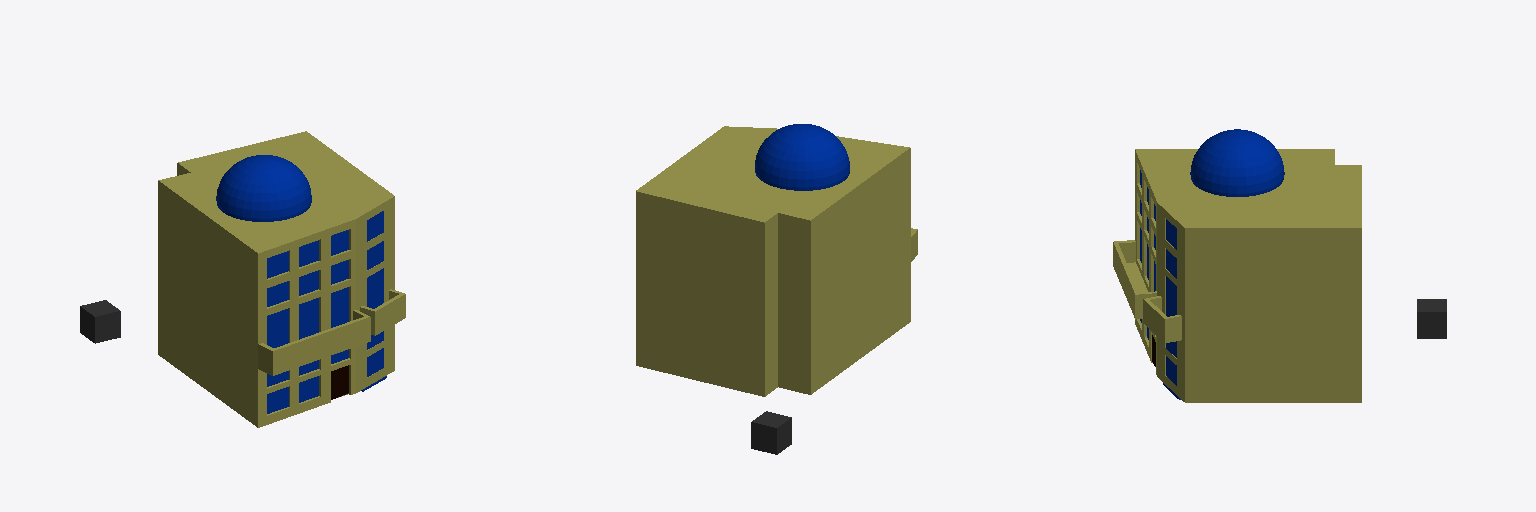
Rendered from maison_armateur.obj.
3 renders of one model, left to right at view 1: azimuth 30°, elevation 25°; view 2: azimuth 150°, elevation 25°; view 3: azimuth 270°, elevation 25°, orthographic.
Visible parts, largest first — view 1: maison_armateur, Cube.001, Sphere, Cube.003, Cube; view 2: maison_armateur, Sphere, Cube; view 3: maison_armateur, Sphere, Cube.003, Cube.
Boxes of the visible parts, x1=… form: maison_armateur: x1=158, y1=131, x2=405, y2=427; Cube.001: x1=267, y1=230, x2=348, y2=413; Sphere: x1=216, y1=155, x2=311, y2=221; Cube.003: x1=361, y1=211, x2=386, y2=391; Cube: x1=80, y1=300, x2=120, y2=343; maison_armateur: x1=636, y1=126, x2=917, y2=396; Sphere: x1=755, y1=124, x2=849, y2=190; Cube: x1=751, y1=411, x2=791, y2=454; maison_armateur: x1=1113, y1=149, x2=1361, y2=402; Sphere: x1=1190, y1=129, x2=1284, y2=196; Cube.003: x1=1163, y1=219, x2=1180, y2=399; Cube: x1=1417, y1=299, x2=1446, y2=338.
Bounding box in the file's own units: 14.42 × 17.2 × 22.53.